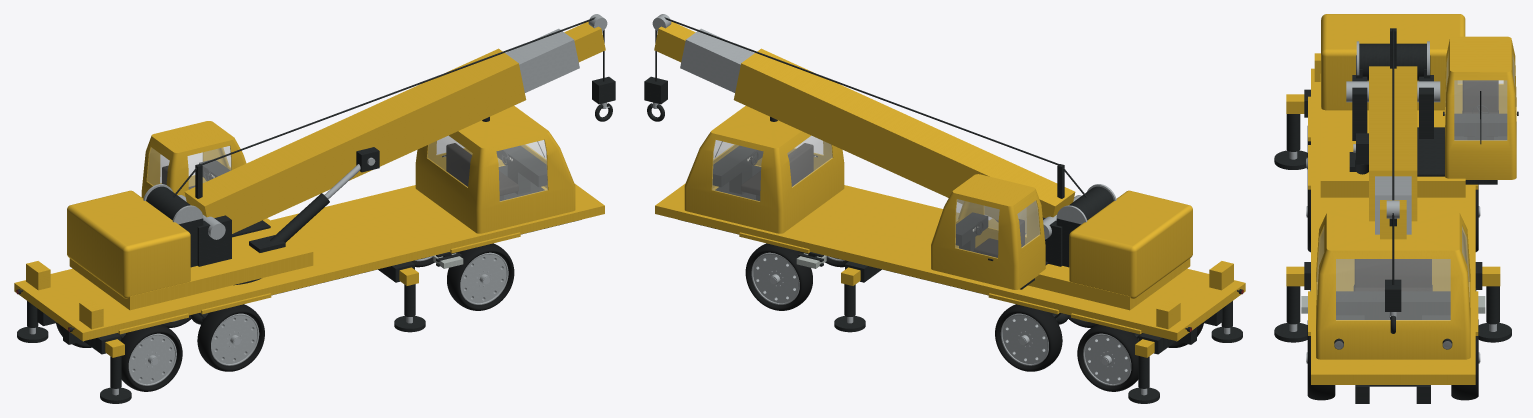
The model's file is mobile-crane (1).glb.
3 renders of one model, left to right at view 1: azimuth 30°, elevation 25°; view 2: azimuth 150°, elevation 25°; view 3: azimuth 270°, elevation 25°, orthographic. The views are drawn at different scales.
Visible parts, largest first — view 1: Mobile continuous carrier deck, Mobile retracted main boom, Carrier cab hollow rounded shell with actual apertures, Mobile shaped rear counterweight, Mobile rotating upper deck, Crane operator cab hollow rounded shell with actual aperture, Mobile exposed second telescope, Carrier cab fitted right window, Mobile axle 1 wheel -1 rounded tyre carcass, Mobile axle 2 wheel -1 perforated pressed wheel disc, Mobile axle 1 wheel -1 perforated pressed wheel disc, Mobile axle 0 wheel -1 perforated pressed wheel disc (+15 smaller); view 2: Mobile continuous carrier deck, Mobile retracted main boom, Carrier cab hollow rounded shell with actual apertures, Mobile shaped rear counterweight, Crane operator cab hollow rounded shell with actual aperture, Mobile exposed second telescope, Carrier cab fitted left window, Mobile rotating upper deck, Crane operator cab fitted left window, Mobile axle 1 wheel 1 rounded tyre carcass, Mobile axle 2 wheel 1 perforated pressed wheel disc, Mobile axle 1 wheel 1 perforated pressed wheel disc (+15 smaller); view 3: Carrier cab hollow rounded shell with actual apertures, Mobile continuous carrier deck, Crane operator cab hollow rounded shell with actual aperture, Mobile shaped rear counterweight, Carrier cab fitted windscreen, Mobile retracted main boom, Mobile rotating upper deck, Crane operator cab fitted windscreen, Carrier cab seated instrument bridge, Carrier cab padded seat back, Mobile seated hoist drum, Crane cab seated lateral platform (+30 smaller).
Part boxes in pixels (x1=…): Mobile continuous carrier deck: x1=14, y1=183, x2=604, y2=341; Mobile retracted main boom: x1=184, y1=48, x2=526, y2=233; Carrier cab hollow rounded shell with actual apertures: x1=415, y1=106, x2=575, y2=233; Mobile shaped rear counterweight: x1=67, y1=190, x2=190, y2=298; Mobile rotating upper deck: x1=69, y1=218, x2=313, y2=310; Crane operator cab hollow rounded shell with actual aperture: x1=141, y1=121, x2=246, y2=198; Mobile exposed second telescope: x1=505, y1=28, x2=579, y2=92; Carrier cab fitted right window: x1=496, y1=140, x2=547, y2=201; Mobile axle 1 wheel -1 rounded tyre carcass: x1=197, y1=304, x2=264, y2=371; Mobile axle 2 wheel -1 perforated pressed wheel disc: x1=461, y1=254, x2=506, y2=303; Mobile axle 1 wheel -1 perforated pressed wheel disc: x1=212, y1=315, x2=257, y2=363; Mobile axle 0 wheel -1 perforated pressed wheel disc: x1=130, y1=335, x2=174, y2=384; Mobile continuous carrier deck: x1=655, y1=183, x2=1245, y2=341; Mobile retracted main boom: x1=733, y1=48, x2=1075, y2=233; Carrier cab hollow rounded shell with actual apertures: x1=684, y1=106, x2=844, y2=233; Mobile shaped rear counterweight: x1=1069, y1=190, x2=1192, y2=298; Crane operator cab hollow rounded shell with actual aperture: x1=931, y1=174, x2=1045, y2=289; Mobile exposed second telescope: x1=680, y1=28, x2=754, y2=92; Carrier cab fitted left window: x1=712, y1=140, x2=763, y2=201; Mobile rotating upper deck: x1=988, y1=218, x2=1190, y2=310; Crane operator cab fitted left window: x1=955, y1=199, x2=999, y2=258; Mobile axle 1 wheel 1 rounded tyre carcass: x1=995, y1=304, x2=1062, y2=371; Mobile axle 2 wheel 1 perforated pressed wheel disc: x1=753, y1=254, x2=798, y2=303; Mobile axle 1 wheel 1 perforated pressed wheel disc: x1=1002, y1=315, x2=1047, y2=363; Carrier cab hollow rounded shell with actual apertures: x1=1316, y1=210, x2=1470, y2=359; Mobile continuous carrier deck: x1=1311, y1=68, x2=1475, y2=384; Crane operator cab hollow rounded shell with actual aperture: x1=1445, y1=36, x2=1516, y2=179; Mobile shaped rear counterweight: x1=1321, y1=14, x2=1465, y2=110; Carrier cab fitted windscreen: x1=1336, y1=259, x2=1450, y2=320; Mobile retracted main boom: x1=1369, y1=66, x2=1417, y2=221; Mobile rotating upper deck: x1=1320, y1=74, x2=1465, y2=197; Crane operator cab fitted windscreen: x1=1454, y1=80, x2=1506, y2=140; Carrier cab seated instrument bridge: x1=1336, y1=291, x2=1450, y2=315; Carrier cab padded seat back: x1=1354, y1=259, x2=1431, y2=287; Mobile seated hoist drum: x1=1359, y1=43, x2=1426, y2=80; Crane cab seated lateral platform: x1=1417, y1=127, x2=1497, y2=184.
Size of the model in its own units: 12.11 by 4.76 by 3.74.
13 materials, 13 textured.
